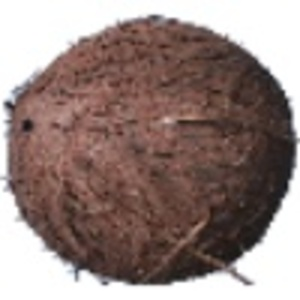coco: (5, 16, 296, 287)
